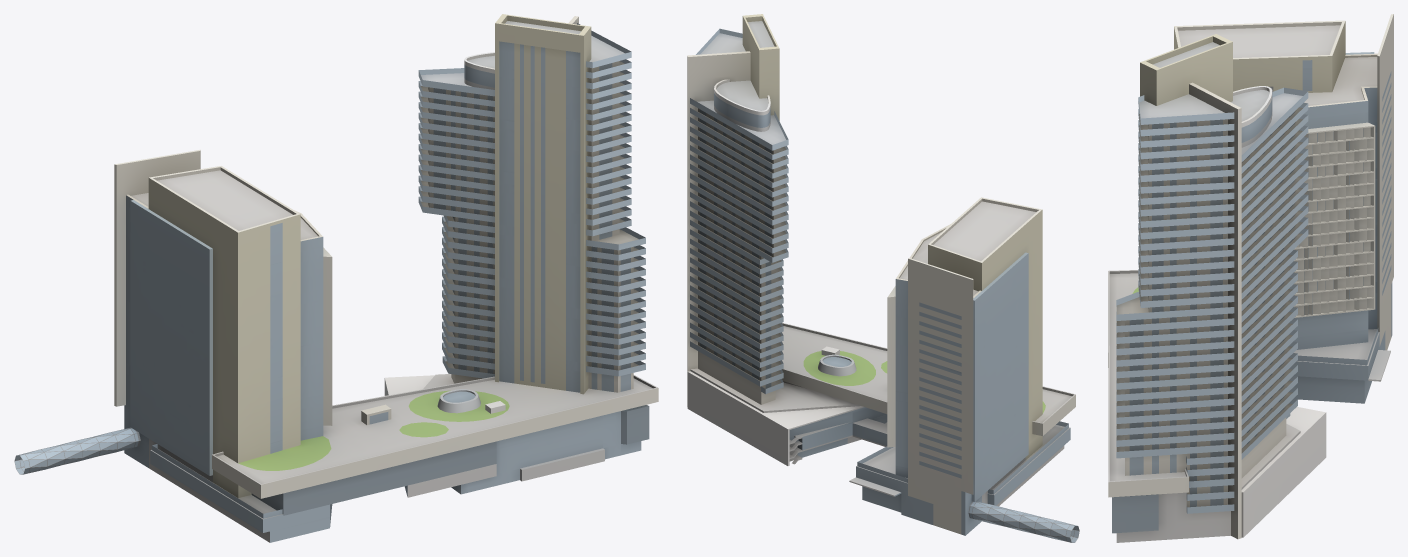
3 views of the same model, side by side, from view 1: azimuth 30°, elevation 25°; view 2: azimuth 150°, elevation 25°; view 3: azimuth 270°, elevation 25° (orthographic). The views are drawn at different scales.
Visible parts, largest first — view 1: 70030076431356650; view 2: 70030076431356650; view 3: 70030076431356650.
Part boxes in pixels (box(x1,y1,x2,y2)): 70030076431356650: box(14, 14, 658, 542); 70030076431356650: box(687, 14, 1079, 542); 70030076431356650: box(1108, 14, 1393, 542).
Size of the model in its own units: 155 by 119 by 67.9.
Materials: 1 (1 with a texture image).
